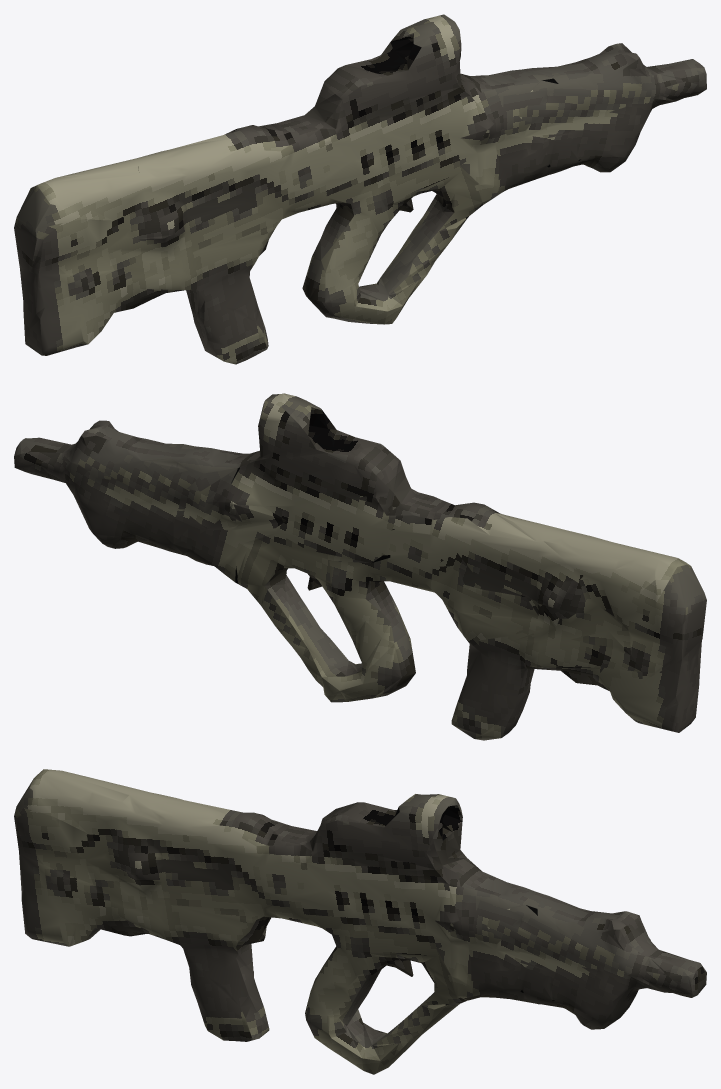
File: bullpup_B_piezas_ensambladas.glb
The picture shows the model from 3 angles, top to bottom: view 1: azimuth 30°, elevation 25°; view 2: azimuth 150°, elevation 25°; view 3: azimuth 330°, elevation 25°; orthographic projection.
Visible parts, largest first — view 1: cuerpo_culata, guardamanos_canon, empunadura, mira, cargador; view 2: cuerpo_culata, guardamanos_canon, empunadura, mira, cargador; view 3: cuerpo_culata, guardamanos_canon, mira, empunadura, cargador.
Part boxes in pixels (x1=…): cuerpo_culata: x1=14, y1=91, x2=489, y2=355; guardamanos_canon: x1=466, y1=43, x2=706, y2=183; empunadura: x1=311, y1=168, x2=546, y2=324; mira: x1=271, y1=14, x2=480, y2=136; cargador: x1=180, y1=231, x2=273, y2=364; cuerpo_culata: x1=232, y1=468, x2=706, y2=732; guardamanos_canon: x1=14, y1=420, x2=254, y2=559; empunadura: x1=174, y1=545, x2=409, y2=702; mira: x1=240, y1=393, x2=446, y2=514; cargador: x1=446, y1=607, x2=543, y2=740; cuerpo_culata: x1=14, y1=769, x2=461, y2=1024; guardamanos_canon: x1=453, y1=869, x2=706, y2=1029; mira: x1=271, y1=794, x2=480, y2=885; empunadura: x1=308, y1=943, x2=524, y2=1074; cargador: x1=159, y1=902, x2=271, y2=1041.
Size of the model in its own units: 1.19 by 0.4913 by 0.1102.
1 material, 1 textured.
